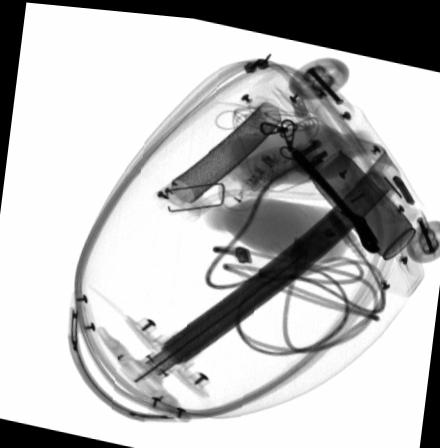Wrench: (290, 143, 380, 245)
